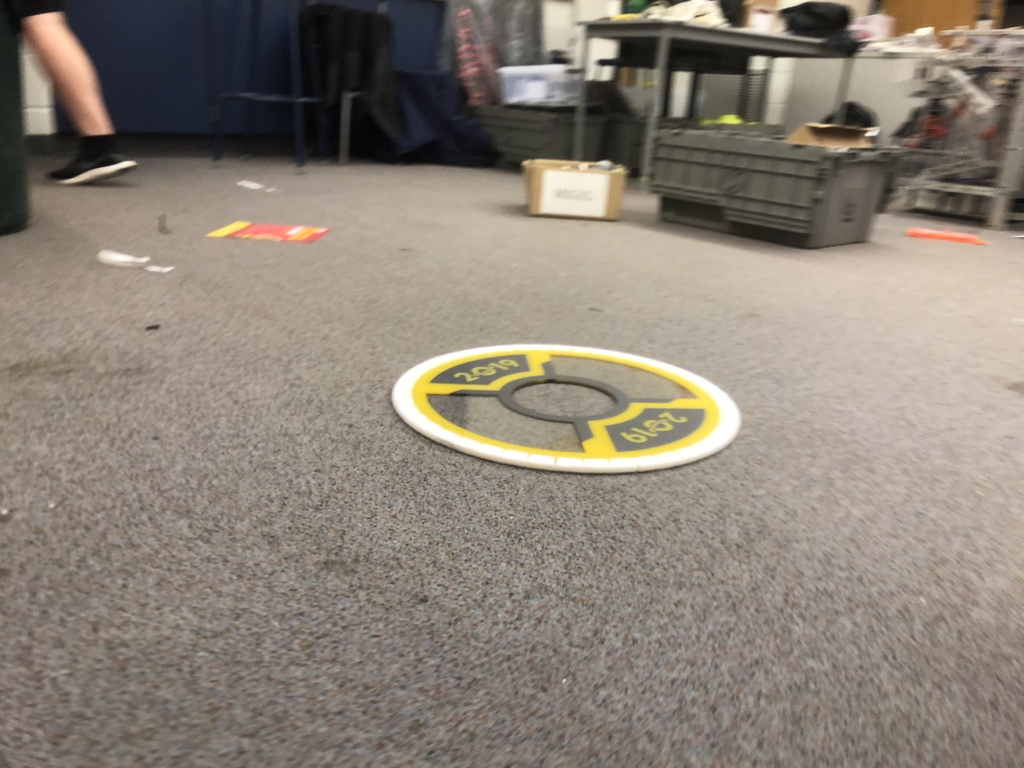hatch_panel: (377, 326, 775, 491)
